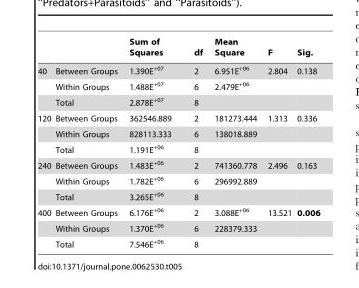table: (37, 37, 319, 248)
table column: (52, 37, 122, 248), (122, 37, 181, 248), (207, 37, 261, 248), (261, 37, 293, 248), (181, 37, 207, 248), (293, 37, 319, 248), (37, 37, 52, 248)
table column header: (37, 37, 319, 60)
table row: (37, 37, 319, 60), (37, 60, 319, 77), (37, 93, 319, 110), (37, 77, 319, 93), (37, 110, 319, 126), (37, 140, 319, 156), (37, 171, 319, 187), (37, 187, 319, 203), (37, 203, 319, 219), (37, 156, 319, 171), (37, 219, 319, 234), (37, 126, 319, 140), (37, 234, 319, 248)
table spanning cell: (37, 60, 52, 110), (37, 156, 52, 203), (37, 110, 52, 156), (37, 203, 52, 248)
